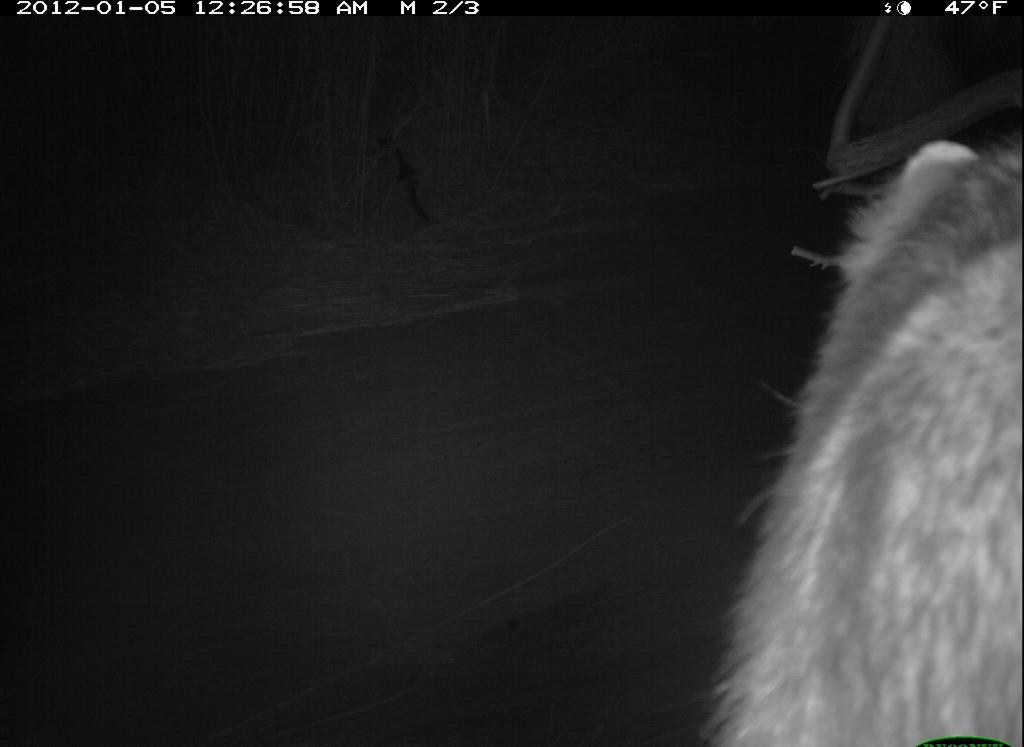raccoon: (707, 137, 1022, 742)
